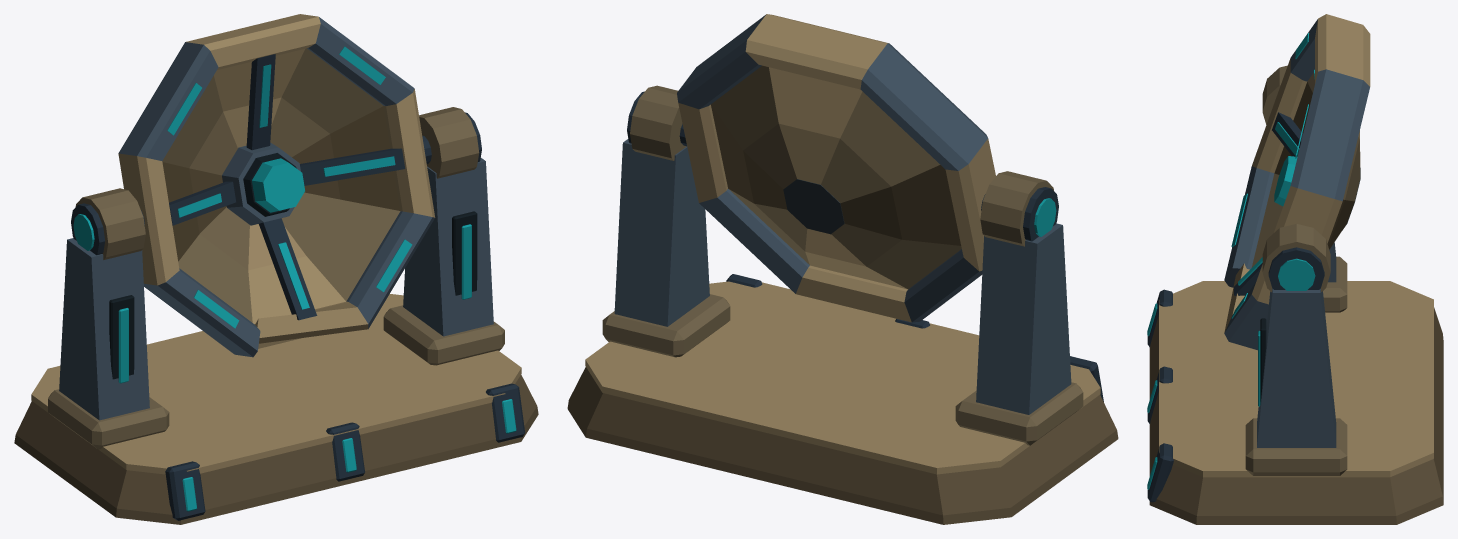
The model's file is fen-observatory.glb.
3 renders of one model, left to right at view 1: azimuth 30°, elevation 25°; view 2: azimuth 150°, elevation 25°; view 3: azimuth 270°, elevation 25°, orthographic. The views are drawn at different scales.
Parts seen in each view (by area): view 1: ReceiverStructure, ReceiverTiltPivot; view 2: ReceiverStructure, ReceiverTiltPivot; view 3: ReceiverStructure, ReceiverTiltPivot.
Part boxes in pixels (x1,y1,x2,y2): ReceiverStructure: [14, 107, 538, 524]; ReceiverTiltPivot: [118, 14, 435, 357]; ReceiverStructure: [567, 85, 1118, 524]; ReceiverTiltPivot: [677, 14, 995, 322]; ReceiverStructure: [1147, 65, 1443, 524]; ReceiverTiltPivot: [1224, 14, 1370, 350].
Size of the model in its own units: 3.6 by 3.15 by 2.22.
1 material, 1 textured.
